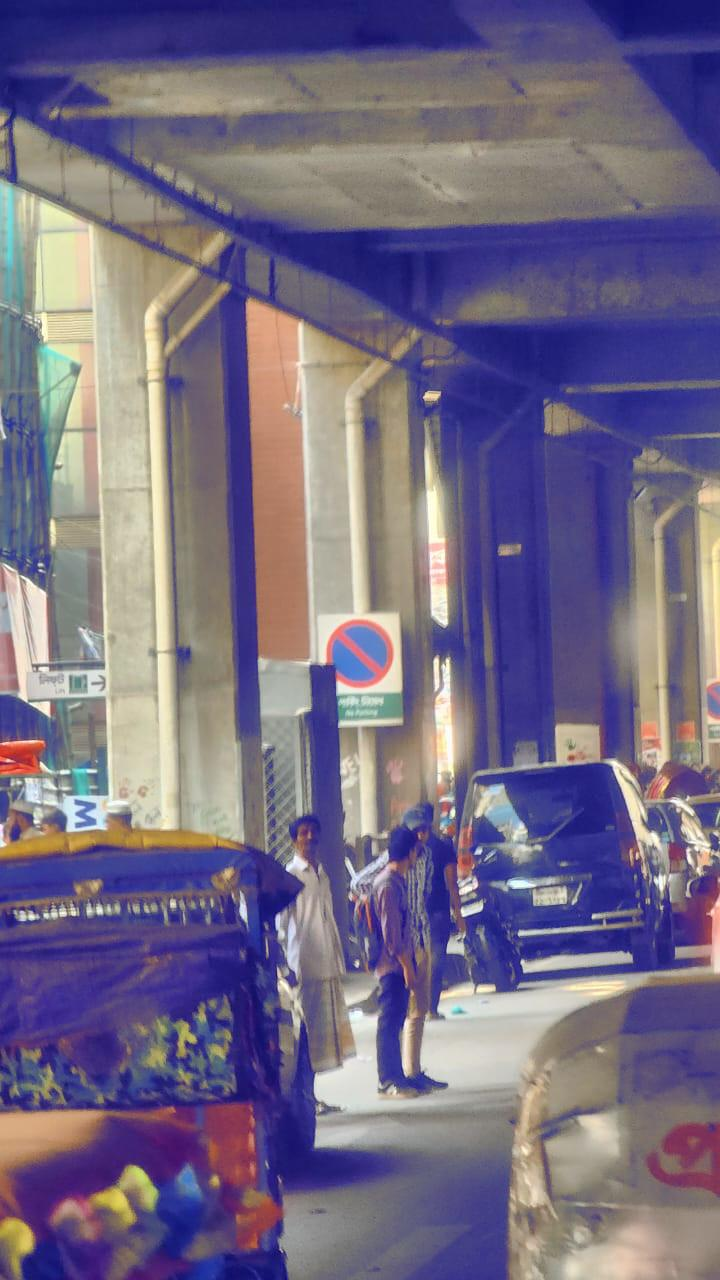No Parking: (317, 614, 405, 727)
